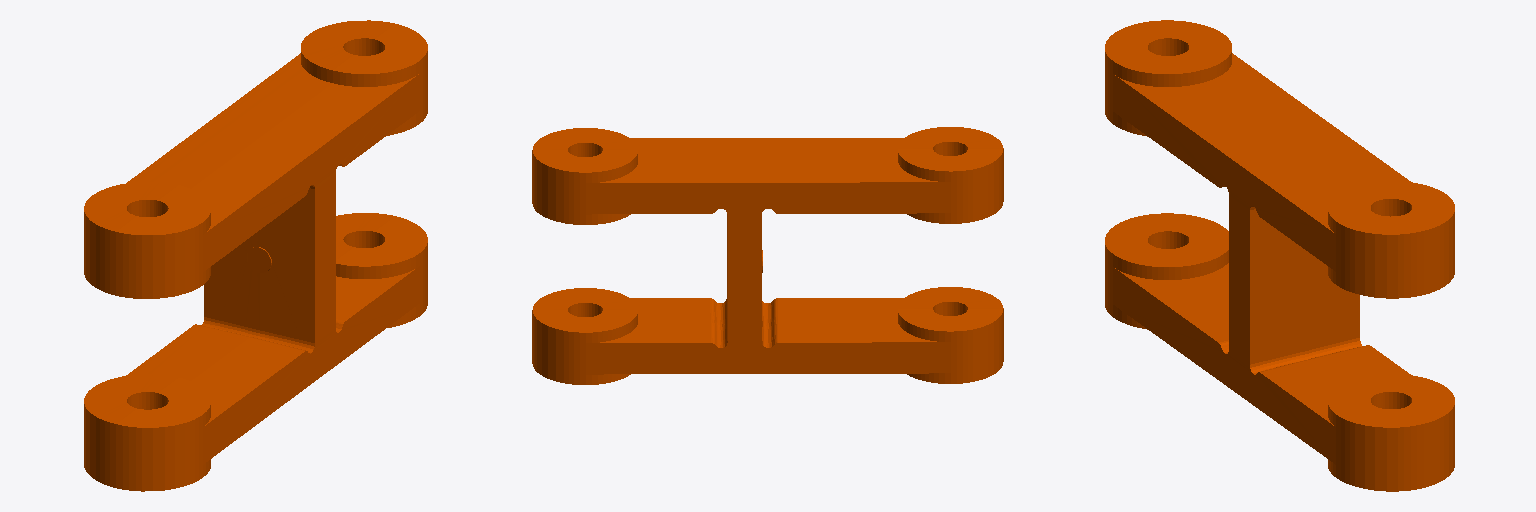
The robot description file, URDF, robot "mycobot":
<?xml version="1.0" ?>
<!-- =================================================================================== -->
<!-- |    This document was autogenerated by xacro from mycobot_gripper.urdf.xacro     | -->
<!-- |    EDITING THIS FILE BY HAND IS NOT RECOMMENDED                                 | -->
<!-- =================================================================================== -->
<robot name="mycobot">
  <mujoco> <compiler discardvisual="false" meshdir="mesh/gripper"/> </mujoco>
  <link name="gripper_base">
    <visual>
      <geometry>
        <!--- 0.0 0 -0.04 -->
        <mesh filename="package://mycobot_description/urdf/mycobot/mesh/gripper/gripper_base.obj"/>
      </geometry>
      <origin rpy=" 0 0 0" xyz="0.0 0 -0.012 "/>
    </visual>
    <collision>
      <geometry>
        <!--- 0.0 0 -0.04 -->
        <mesh filename="package://mycobot_description/urdf/mycobot/mesh/gripper/gripper_base.obj"/>
      </geometry>
      <origin rpy=" 0 0 0" xyz="0.0 0 -0.012 "/>
    </collision>
  </link>
  <link name="gripper_left1">
    <visual>
      <geometry>
        <!--- 0.0 0 -0.04 -->
        <mesh filename="package://mycobot_description/urdf/mycobot/mesh/gripper/gripper_left1.obj"/>
      </geometry>
      <origin rpy=" 0 0 0" xyz="0.039 -0.0133 -0.012 "/>
      <!-- <origin xyz = "0.0 0 -0.012 " rpy = " 0 0 0"/> -->
    </visual>
    <collision>
      <geometry>
        <mesh filename="package://mycobot_description/urdf/mycobot/mesh/gripper/gripper_left1.obj"/>
      </geometry>
      <origin rpy=" 0 0 0" xyz="-0.039 -0.0133 -0.012 "/>
    </collision>
  </link>
  <link name="gripper_left2">
    <visual>
      <geometry>
        <mesh filename="package://mycobot_description/urdf/mycobot/mesh/gripper/gripper_left2.obj"/>
      </geometry>
      <origin rpy=" 0 0 0" xyz="0.005 -0.0195 -0.012 "/>
    </visual>
    <collision>
      <geometry>
        <mesh filename="package://mycobot_description/urdf/mycobot/mesh/gripper/gripper_left2.obj"/>
      </geometry>
      <origin rpy=" 0 0 0" xyz="-0.005 -0.0195 -0.012 "/>
    </collision>
  </link>
  <link name="gripper_left3">
    <visual>
      <geometry>
        <mesh filename="package://mycobot_description/urdf/mycobot/mesh/gripper/gripper_left3.obj"/>
      </geometry>
      <origin rpy=" 0 0 0" xyz="0.012 0.0025 -0.012 "/>
      <!-- <origin xyz = "0.0 0 0 " rpy = " 0 0 0"/> -->
    </visual>
    <collision>
      <geometry>
        <mesh filename="package://mycobot_description/urdf/mycobot/mesh/gripper/gripper_left3.obj"/>
      </geometry>
      <origin rpy=" 0 0 0" xyz="0.0 0 -0.012 "/>
    </collision>
  </link>
  <link name="gripper_right1">
    <visual>
      <geometry>
        <mesh filename="package://mycobot_description/urdf/mycobot/mesh/gripper/gripper_right1.obj"/>
      </geometry>
      <origin rpy=" 0 0 0" xyz="-0.039 -0.0133 -0.012 "/>
    </visual>
    <collision>
      <geometry>
        <mesh filename="package://mycobot_description/urdf/mycobot/mesh/gripper/gripper_right1.obj"/>
      </geometry>
      <origin rpy=" 0 0 0" xyz="-0.039 -0.0133 -0.012 "/>
    </collision>
  </link>
  <link name="gripper_right2">
    <visual>
      <geometry>
        <mesh filename="package://mycobot_description/urdf/mycobot/mesh/gripper/gripper_right2.obj"/>
      </geometry>
      <origin rpy=" 0 0 0" xyz="-0.005 -0.0195 -0.012 "/>
    </visual>
    <collision>
      <geometry>
        <mesh filename="package://mycobot_description/urdf/mycobot/mesh/gripper/gripper_right2.obj"/>
      </geometry>
      <origin rpy=" 0 0 0" xyz="-0.005 -0.0195 -0.012 "/>
    </collision>
  </link>
  <link name="gripper_right3">
    <visual>
      <geometry>
        <mesh filename="package://mycobot_description/urdf/mycobot/mesh/gripper/gripper_right3.obj"/>
      </geometry>
      <origin rpy=" 0 0 0" xyz="-0.012 0.0025 -0.012 "/>
    </visual>
    <collision>
      <geometry>
        <mesh filename="package://mycobot_description/urdf/mycobot/mesh/gripper/gripper_right3.obj"/>
      </geometry>
      <origin rpy=" 0 0 0" xyz="-0.012 0.0025 -0.012"/>
    </collision>
  </link>
  <joint name="gripper_base_to_gripper_left3" type="revolute">
    <axis xyz="0 0 1"/>
    <limit effort="1000.0" lower="-0.7" upper="0.15" velocity="0"/>
    <parent link="gripper_base"/>
    <child link="gripper_left3"/>
    <origin rpy="0 0 0" xyz="-0.012 0.005 0"/>
  </joint>
  <joint name="gripper_base_to_gripper_right3" type="revolute">
    <axis xyz="0 0 1"/>
    <limit effort="1000.0" lower="-0.15" upper="0.7" velocity="0"/>
    <parent link="gripper_base"/>
    <child link="gripper_right3"/>
    <origin rpy="0 0 0" xyz="0.012 0.005 0"/>
  </joint>
  <joint name="gripper_base_to_gripper_left2" type="revolute">
    <axis xyz="0 0 1"/>
    <limit effort="1000.0" lower="-0.8" upper="0.5" velocity="0"/>
    <parent link="gripper_base"/>
    <child link="gripper_left2"/>
    <origin rpy="0 0 0" xyz="-0.005 0.027 0"/>
  </joint>
  <joint name="gripper_base_to_gripper_right2" type="revolute">
    <axis xyz="0 0 1"/>
    <limit effort="1000.0" lower="-0.5" upper="0.8" velocity="0"/>
    <parent link="gripper_base"/>
    <child link="gripper_right2"/>
    <origin rpy="0 0 0" xyz="0.005 0.027 0"/>
  </joint>
  <joint name="gripper_left3_to_gripper_left1" type="revolute">
    <axis xyz="0 0 1"/>
    <limit effort="1000.0" lower="-0.5" upper="0.5" velocity="0"/>
    <parent link="gripper_left3"/>
    <child link="gripper_left1"/>
    <origin rpy="0 0 0" xyz="-0.027 0.016 0"/>
  </joint>
  <joint name="gripper_right3_to_gripper_right1" type="revolute">
    <axis xyz="0 0 1"/>
    <limit effort="1000.0" lower="-0.5" upper="0.5" velocity="0"/>
    <parent link="gripper_right3"/>
    <child link="gripper_right1"/>
    <origin rpy="0 0 0" xyz="0.027 0.016 0"/>
  </joint>
</robot>

--- What the picture shows (computed from the rendered views, not written in the file) ---
3 views of the same robot in one strip: view 1: azimuth 30°, elevation 25°; view 2: azimuth 150°, elevation 25°; view 3: azimuth 270°, elevation 25° (orthographic).
Robot: mycobot — 7 links, 6 joints (6 revolute); root link gripper_base; default pose: every joint at zero.
Visible links, largest first — view 1: gripper_right2; view 2: gripper_right2; view 3: gripper_right2.
Boxes of the visible links, x1,y1,x2,y2 form: gripper_right2: (84, 20, 427, 491); gripper_right2: (532, 127, 1003, 384); gripper_right2: (1105, 20, 1454, 491).
Bounding box of the posed robot: 0.0357 × 0.0247 × 0.02 m (x, y, z).
Meshes: 7 distinct files referenced, 1 mesh visuals loaded (1 OBJ); not drawn: 6 (reference not matched to a file when rendering).